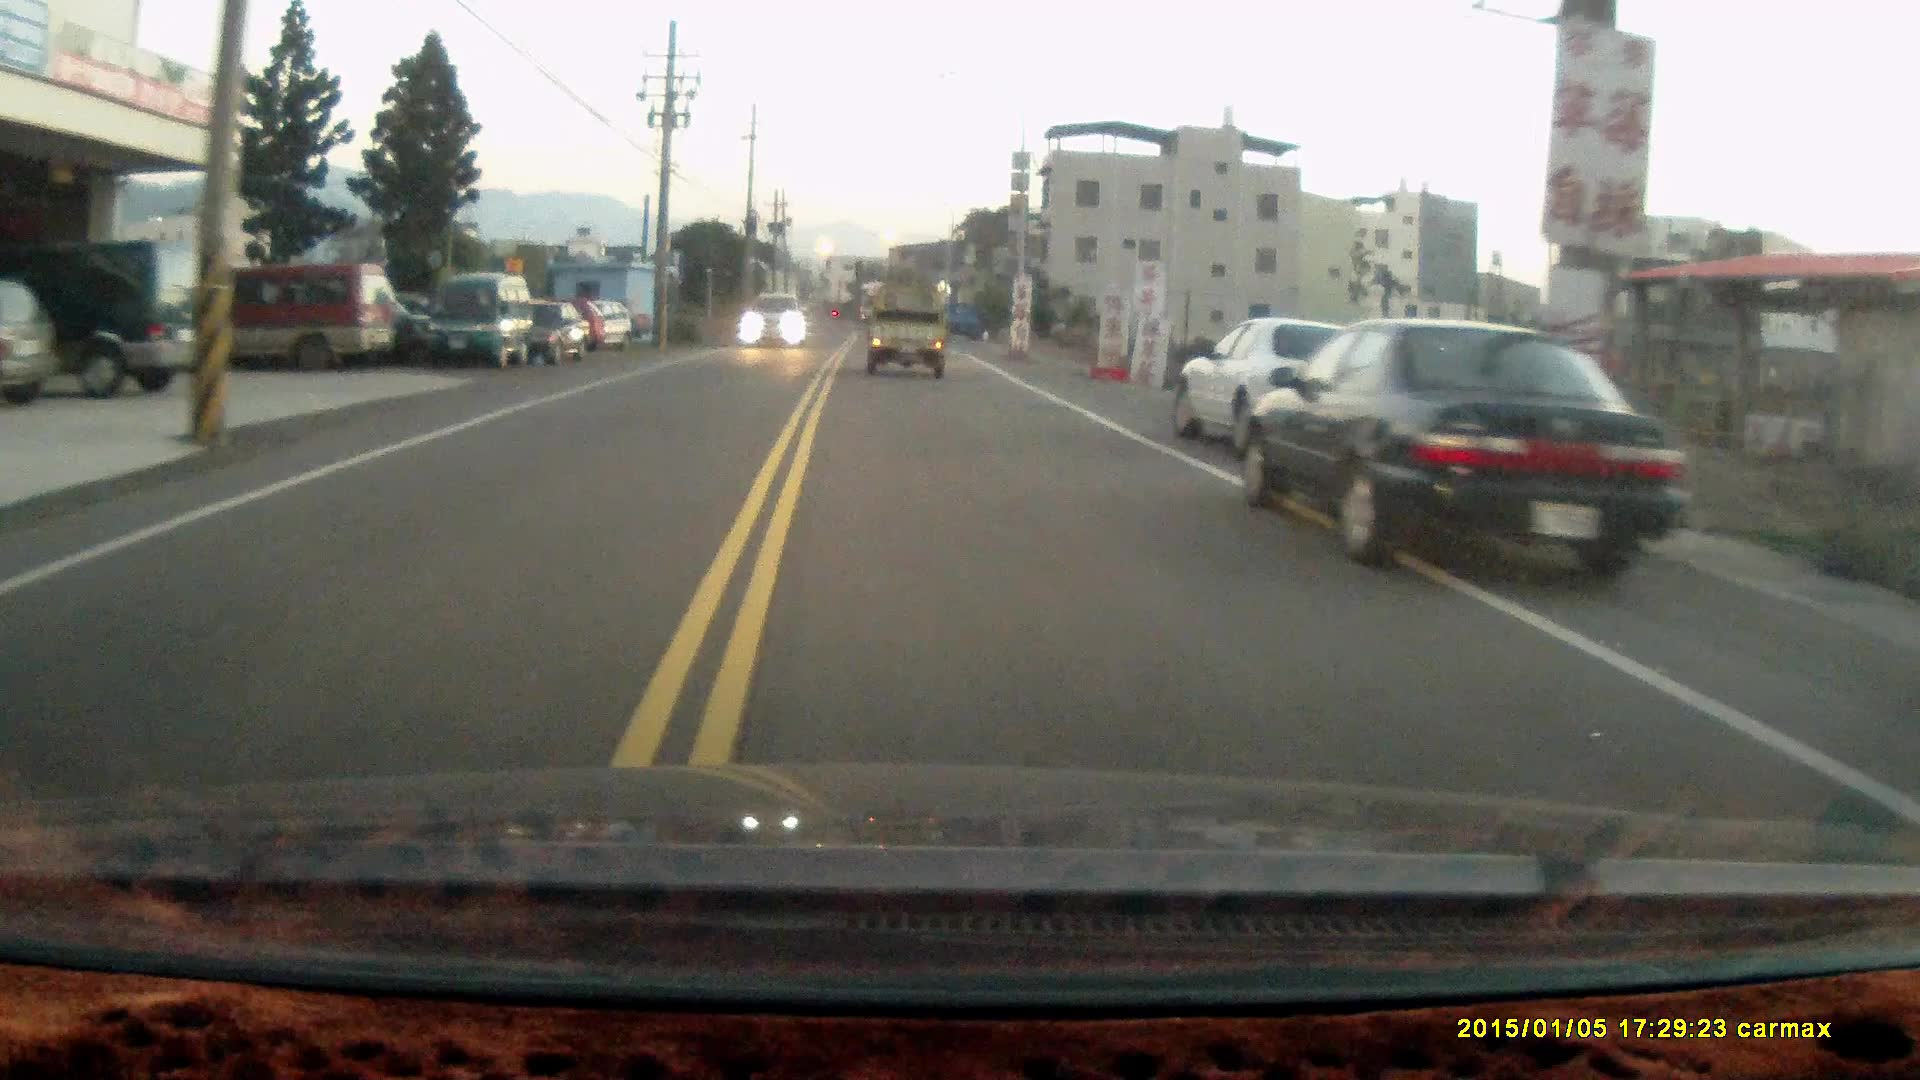vehicle: (1240, 316, 1676, 582), (0, 237, 222, 402), (200, 262, 402, 377), (1178, 318, 1337, 458), (425, 273, 538, 371), (866, 281, 947, 382), (1, 276, 61, 405), (497, 299, 592, 368), (737, 293, 812, 347)
